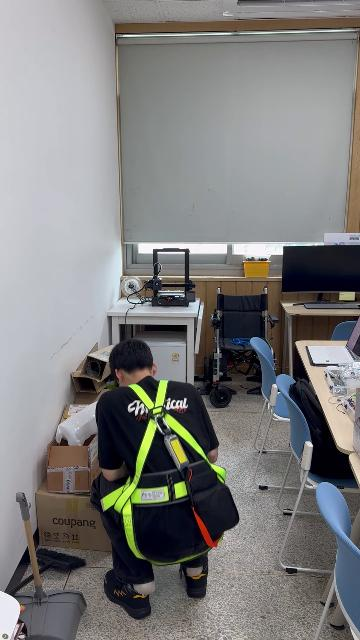helmet_not_worn: (110, 338, 157, 379)
shoe_worn: (103, 570, 152, 619), (179, 555, 207, 597)
vest_worn: (97, 381, 230, 563)
